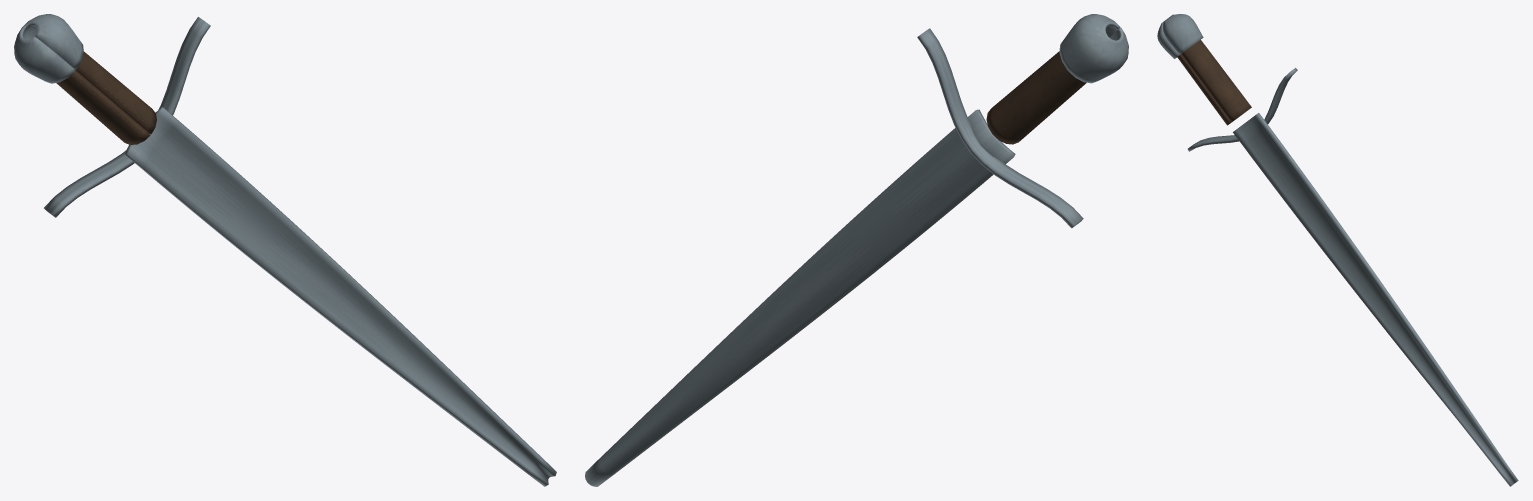
Rendered from sword.glb.
3 renders of one model, left to right at view 1: azimuth 30°, elevation 25°; view 2: azimuth 150°, elevation 25°; view 3: azimuth 330°, elevation 25°, orthographic. The views are drawn at different scales.
Parts seen in each view (by area): view 1: sword__Way_steel, sword__Way_leather; view 2: sword__Way_steel, sword__Way_leather; view 3: sword__Way_steel, sword__Way_leather.
Boxes of the visible parts, box(x1,y1,x2,y2) form: sword__Way_steel: box(14, 14, 556, 486); sword__Way_leather: box(56, 51, 156, 144); sword__Way_steel: box(585, 14, 1128, 486); sword__Way_leather: box(986, 51, 1086, 144); sword__Way_steel: box(1157, 14, 1518, 486); sword__Way_leather: box(1177, 40, 1251, 125).
Size of the model in its own units: 0.5955 by 0.6239 by 0.0576.
Materials: 2 (2 with a texture image).
